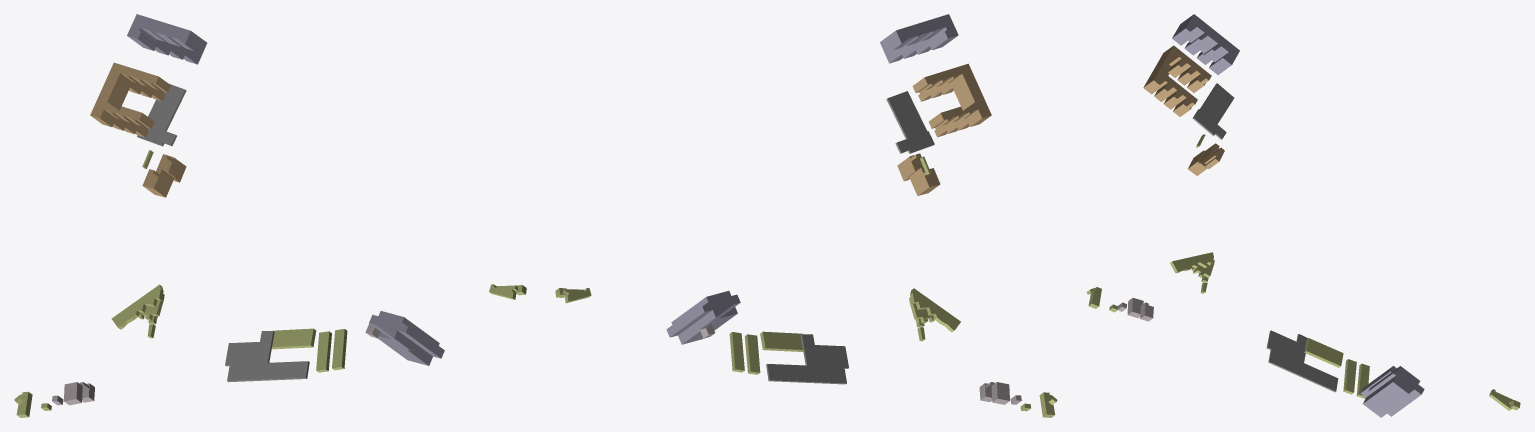
3 views of the same model, side by side, from view 1: azimuth 30°, elevation 25°; view 2: azimuth 150°, elevation 25°; view 3: azimuth 330°, elevation 25° (orthographic). The views are drawn at different scales.
Parts seen in each view (by area): view 1: 0_1_0_0_1; view 2: 0_1_0_0_1; view 3: 0_1_0_0_1.
Boxes of the visible parts, x1,y1,x2,y2 form: 0_1_0_0_1: [14, 14, 526, 417]; 0_1_0_0_1: [555, 14, 1057, 417]; 0_1_0_0_1: [1086, 14, 1520, 417].
Bounding box in the file's own units: 642 × 488 × 78.3.
